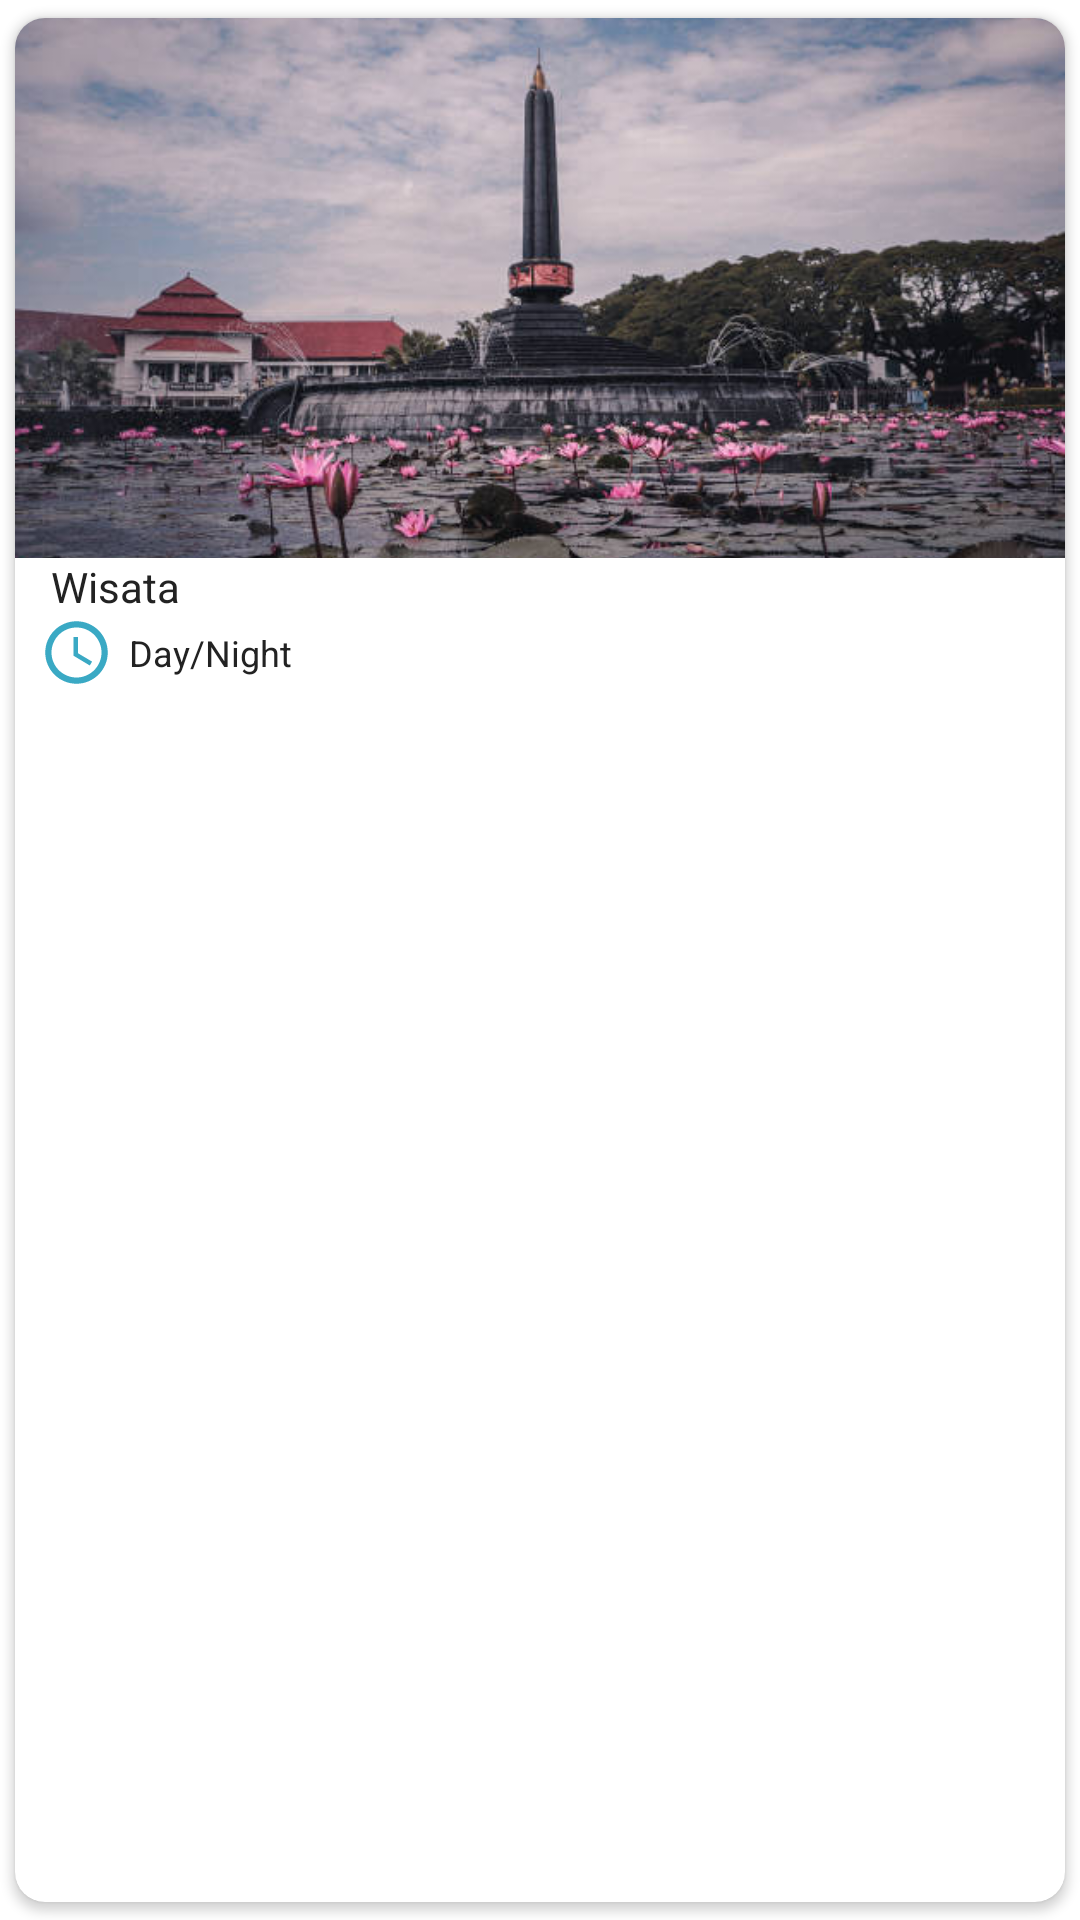

Named icons in this screenshot (1080w x 1920h) and their bounding boxes, (x1,y1,x2,y2):
access time: (45,621,108,684)
